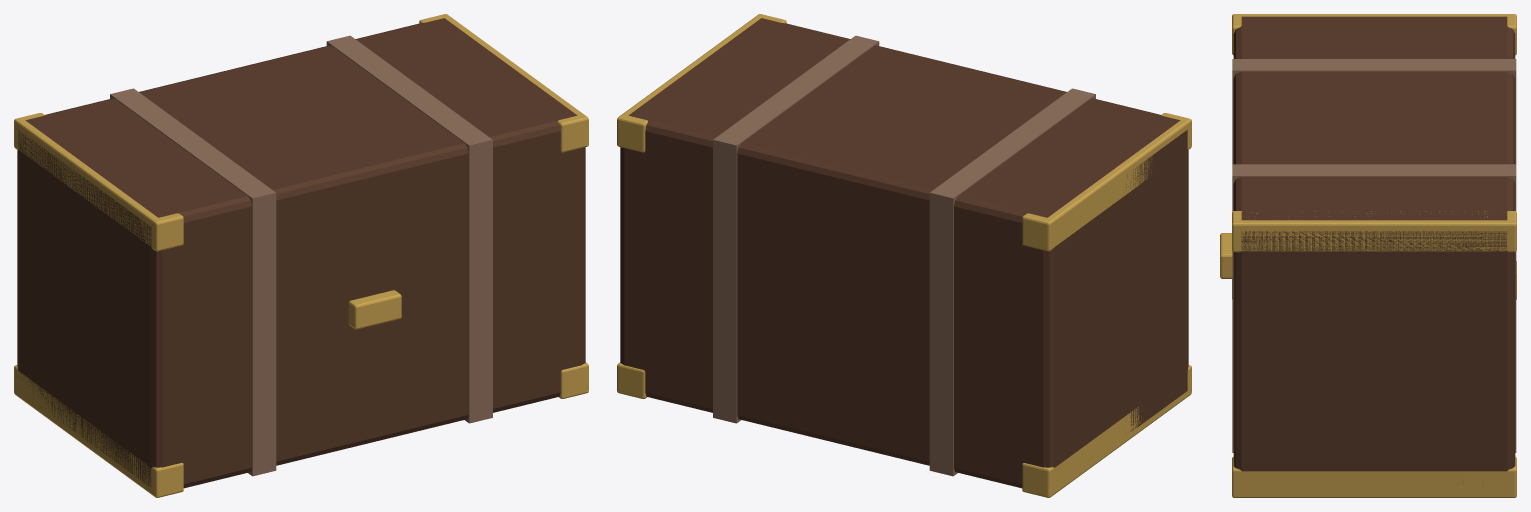
Rendered from hh_travel_trunk.glb.
3 renders of one model, left to right at view 1: azimuth 30°, elevation 25°; view 2: azimuth 150°, elevation 25°; view 3: azimuth 270°, elevation 25°, orthographic.
Parts seen in each view (by area): view 1: trunk, strap, strap.001, corner.001, corner, corner.003, lock, corner.002; view 2: trunk, strap, strap.001, corner.001, corner, corner.003, corner.002; view 3: trunk, corner.003, corner.002, strap.001, strap, corner.001, lock.
Boxes of the visible parts, x1,y1,x2,y2 form: trunk: (17,18,585,488); strap: (110,88,276,476); strap.001: (326,35,492,423); corner.001: (14,113,183,251); corner: (14,365,183,497); corner.003: (419,14,588,152); lock: (348,290,401,329); corner.002: (559,362,588,398); trunk: (620,18,1188,488); strap: (929,88,1095,476); strap.001: (713,35,879,423); corner.001: (1022,113,1191,251); corner: (1022,365,1191,497); corner.003: (617,14,786,152); corner.002: (617,362,646,398); trunk: (1233,16,1515,490); corner.003: (1232,211,1516,252); corner.002: (1232,456,1516,497); strap.001: (1232,164,1516,452); strap: (1232,59,1516,164); corner.001: (1232,14,1516,55); lock: (1220,233,1232,278).
Bounding box in the file's own units: 0.92 × 0.564 × 0.548.
